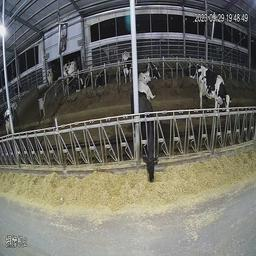cow: (130, 91, 157, 188), (195, 57, 233, 123), (62, 58, 82, 95), (139, 59, 156, 97), (91, 66, 110, 92), (120, 43, 132, 79), (183, 51, 197, 79)
